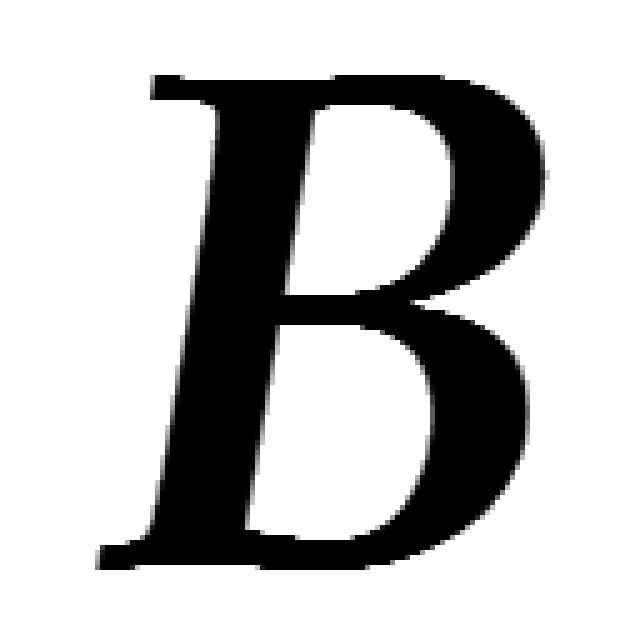B: (95, 75, 550, 575)
